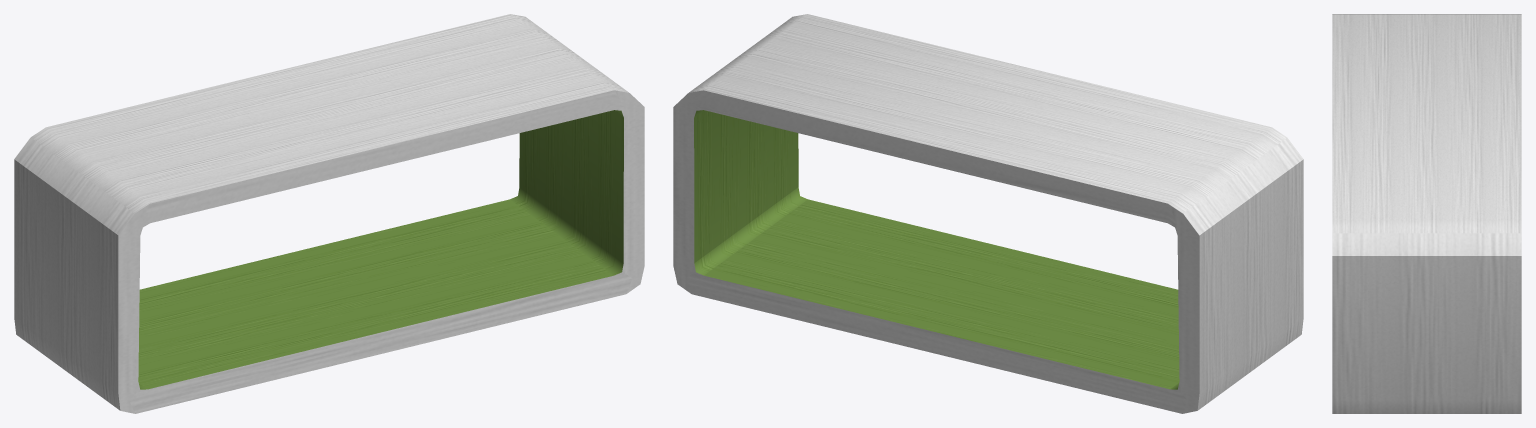
The model's file is Wall_Shelf_01_H.FBX.
3 renders of one model, left to right at view 1: azimuth 30°, elevation 25°; view 2: azimuth 150°, elevation 25°; view 3: azimuth 270°, elevation 25°, orthographic. The views are drawn at different scales.
Parts seen in each view (by area): view 1: Wall_Shelf; view 2: Wall_Shelf; view 3: Wall_Shelf.
Part boxes in pixels (x1,y1,x2,y2): Wall_Shelf: [14, 14, 644, 413]; Wall_Shelf: [673, 14, 1303, 413]; Wall_Shelf: [1332, 14, 1521, 413].
Bounding box in the file's own units: 160 × 60.21 × 54.97.
